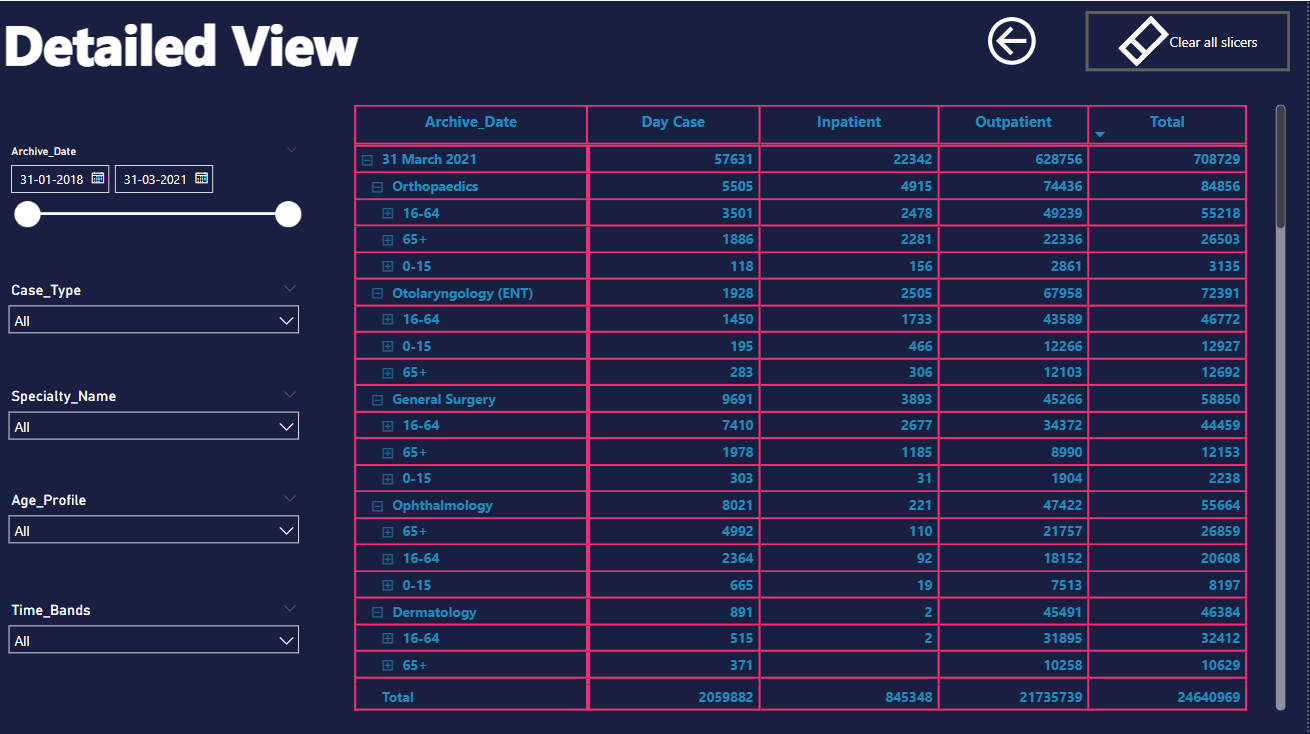

The dashboard page shown, as its layout file describes it:
{"tool":"powerbi","page":{"name":"Detail","canvas":[1280,720],"ordinal":1},"visuals":[{"type":"slicer","fields":{"Values":["All Data.Case_Type"]},"box":[0,269,304.6,79.6],"z":0},{"type":"slicer","fields":{"Values":["All Data.Archive_Date"]},"box":[0,135.8,304.6,96.1],"z":1000},{"type":"slicer","fields":{"Values":["All Data.Specialty_Name"]},"box":[0,373.2,304.6,79.6],"z":2000},{"type":"textbox","box":[0,0,416,96],"z":3000},{"type":"slicer","fields":{"Values":["All Data.Age_Profile"]},"box":[0,474.8,304.6,81],"z":4000},{"type":"slicer","fields":{"Values":["All Data.Time_Bands"]},"box":[0,581.8,304.6,79.6],"z":5000},{"type":"pivotTable","fields":{"Rows":["All Data.Archive_Date","All Data.Specialty_Name","All Data.Age_Profile","All Data.Time_Bands"],"Columns":["All Data.Case_Type"],"Values":["Sum(All Data.Total)"]},"box":[343.6,96.6,920.8,602.9],"z":6000},{"type":"actionButton","box":[1063.5,9.6,200.3,59],"z":7000},{"type":"actionButton","box":[951.4,10,81.4,58.6],"z":8000}]}

Visuals, with their boxes in screenshot pixels (x1, y1, x2, y2), scaled from the page's 1280x720 canvas onto the 1310x734 screenshot:
slicer - All Data.Case_Type: rect(0, 274, 312, 355)
slicer - All Data.Archive_Date: rect(0, 138, 312, 236)
slicer - All Data.Specialty_Name: rect(0, 380, 312, 462)
textbox: rect(0, 0, 426, 98)
slicer - All Data.Age_Profile: rect(0, 484, 312, 567)
slicer - All Data.Time_Bands: rect(0, 593, 312, 674)
pivotTable - All Data.Archive_Date x All Data.Specialty_Name: rect(352, 98, 1294, 713)
actionButton: rect(1088, 10, 1293, 70)
actionButton: rect(974, 10, 1057, 70)
